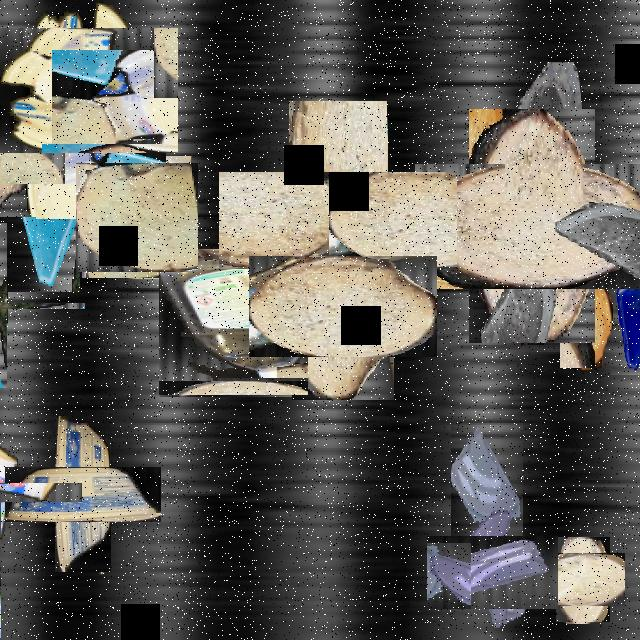glass: (18, 72, 148, 202), (0, 134, 80, 294), (505, 62, 583, 201), (442, 521, 544, 624), (451, 423, 523, 551), (611, 269, 640, 375)
plastic: (254, 136, 422, 304), (13, 15, 165, 166), (159, 248, 307, 396), (30, 441, 136, 547), (0, 451, 50, 533), (0, 263, 46, 348)
wood: (442, 136, 622, 316), (270, 233, 416, 379), (79, 159, 195, 275), (0, 79, 70, 184), (548, 545, 618, 614), (560, 276, 612, 368), (0, 531, 36, 602)
